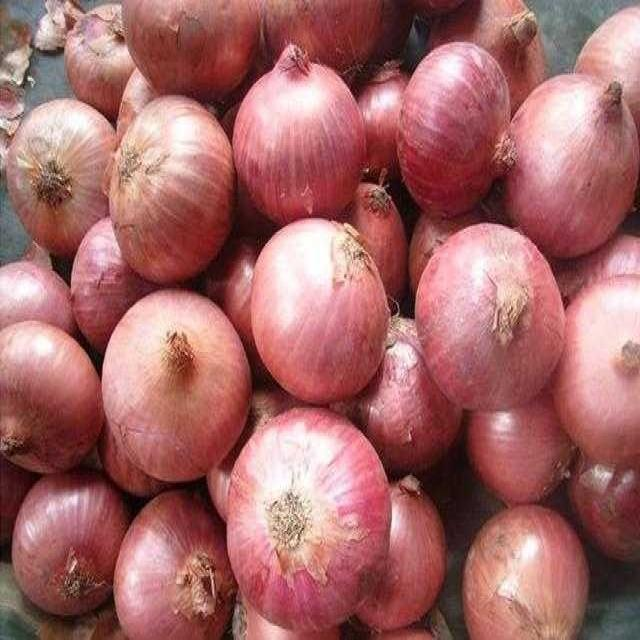Onion: (218, 382, 410, 640), (399, 220, 587, 422), (248, 197, 411, 426), (98, 271, 260, 500), (94, 87, 254, 304), (233, 25, 380, 244), (495, 45, 640, 258), (380, 20, 528, 214), (0, 86, 140, 261), (456, 479, 598, 640), (110, 483, 248, 640), (0, 296, 105, 498)
